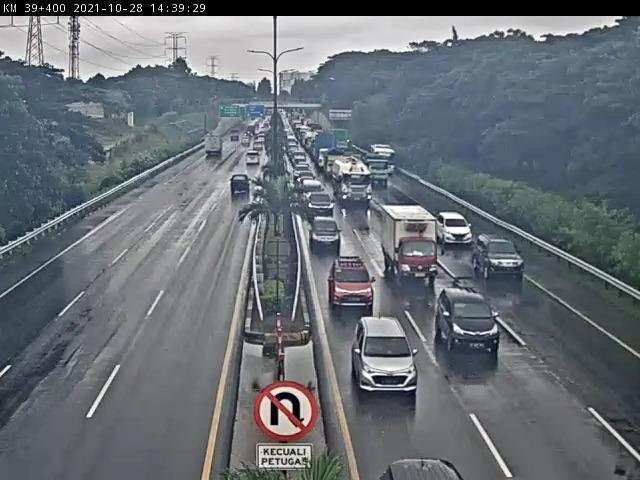car: (351, 317, 424, 397), (428, 285, 502, 357), (327, 253, 385, 306), (476, 229, 524, 278), (438, 209, 477, 249), (310, 215, 342, 252), (302, 188, 336, 215), (229, 174, 251, 196)
truck: (380, 204, 443, 291), (323, 153, 376, 207), (363, 150, 392, 190)
